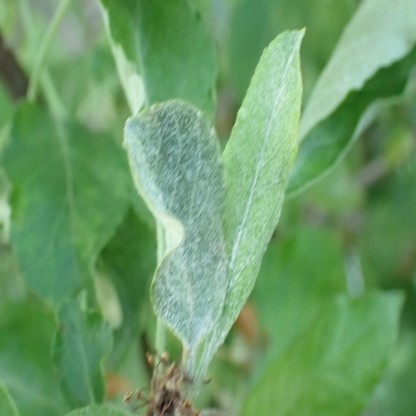powder: (188, 26, 306, 377), (124, 99, 227, 385)
